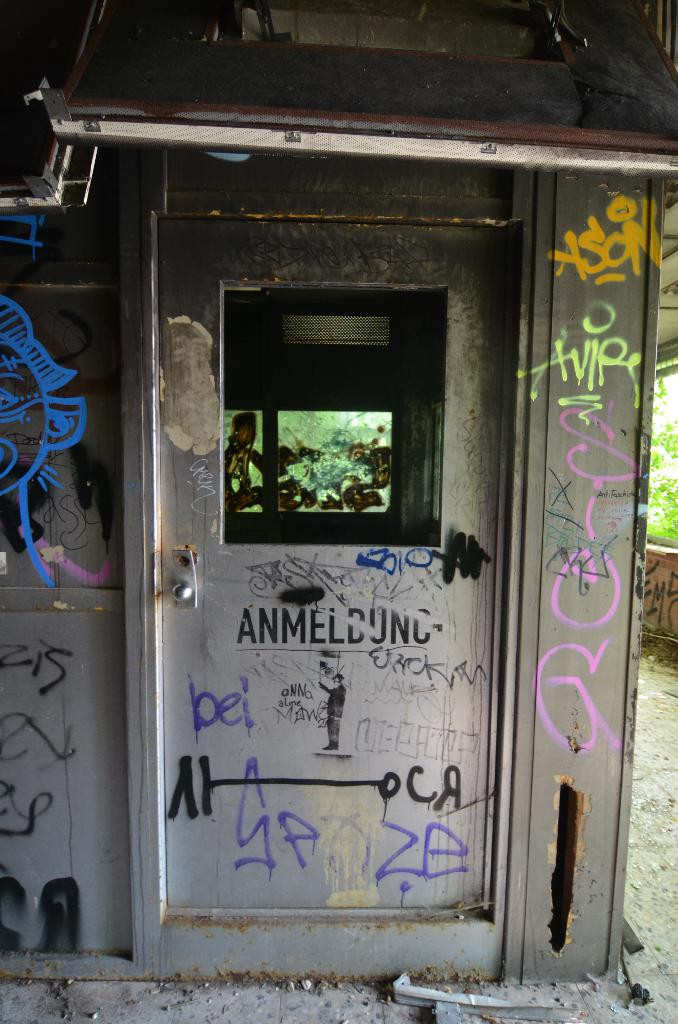door: (161, 223, 486, 902)
handle: (173, 572, 195, 609)
